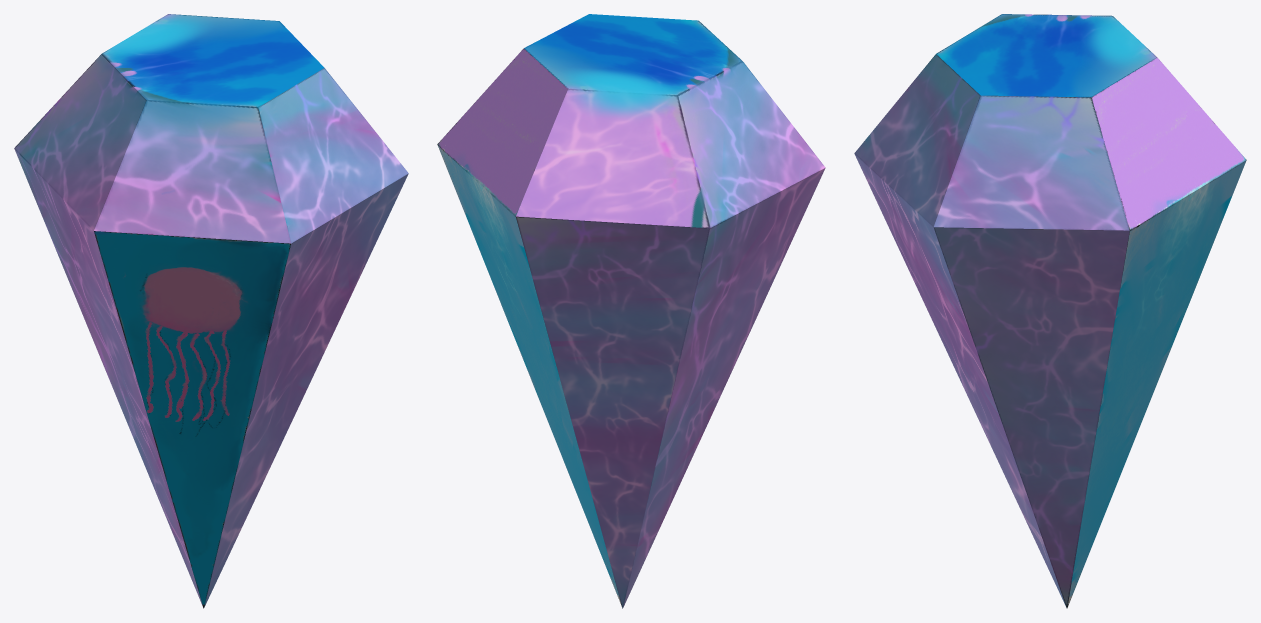
3 views of the same model, side by side, from view 1: azimuth 30°, elevation 25°; view 2: azimuth 150°, elevation 25°; view 3: azimuth 270°, elevation 25° (orthographic).
Parts seen in each view (by area): view 1: group897219909; view 2: group897219909; view 3: group897219909.
Boxes of the visible parts, x1,y1,x2,y2 form: group897219909: [14, 14, 408, 608]; group897219909: [437, 14, 825, 608]; group897219909: [854, 14, 1246, 608].
Size of the model in its own units: 5.6 by 9.51 by 6.08.
Materials: 1 (1 with a texture image).
